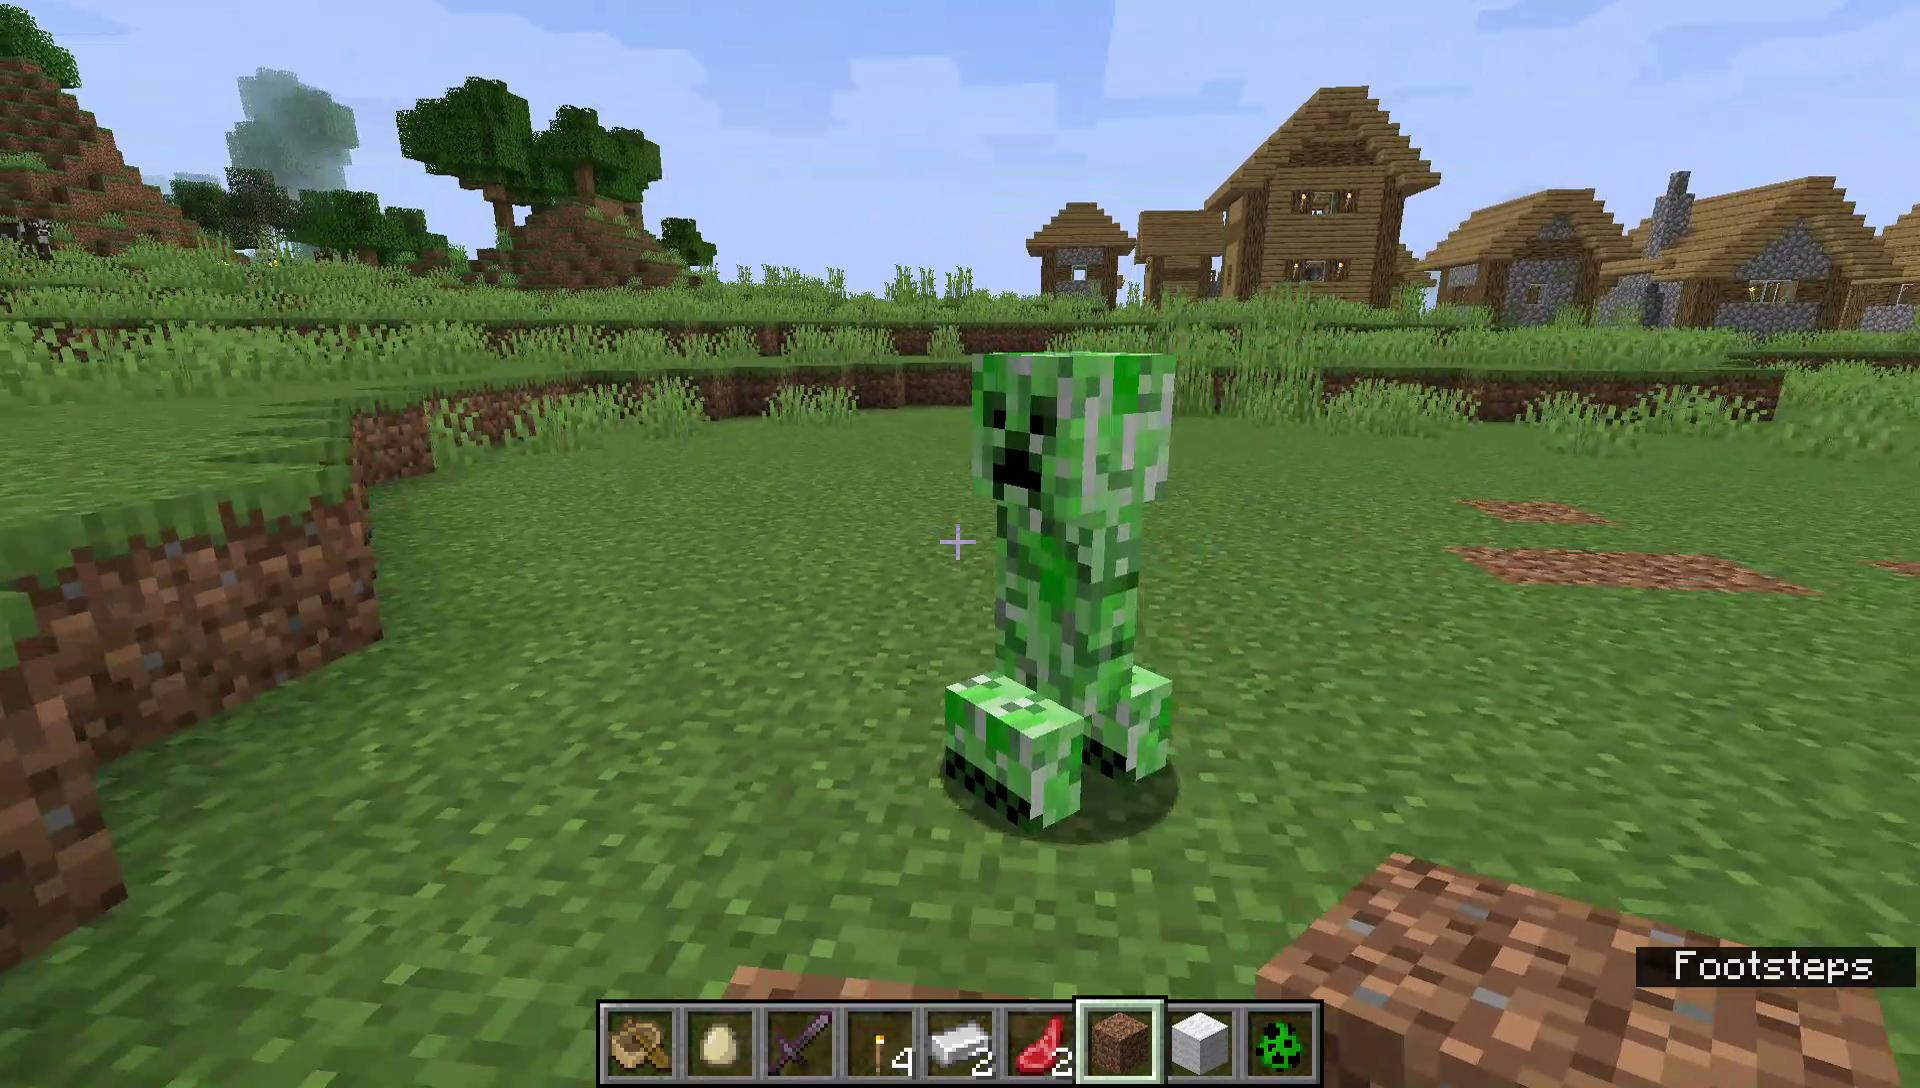cow: (0, 208, 58, 274)
creeper: (938, 346, 1185, 843)
